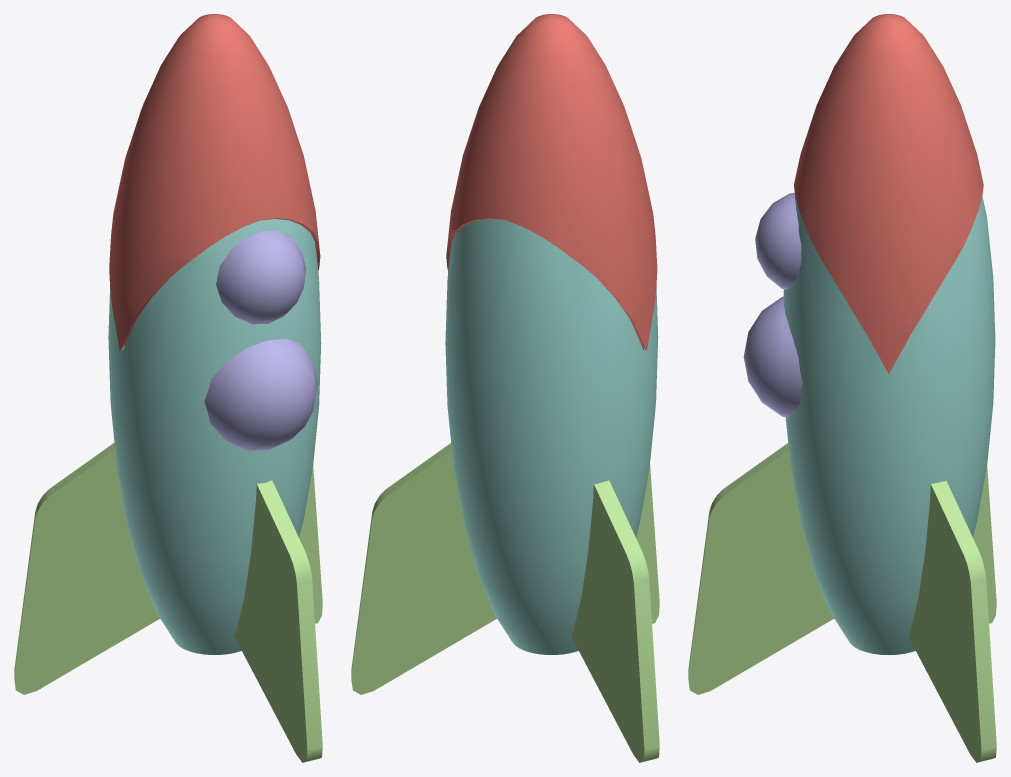
The model's file is Rocket.fbx.
3 views of the same model, side by side, from view 1: azimuth 30°, elevation 25°; view 2: azimuth 150°, elevation 25°; view 3: azimuth 270°, elevation 25° (orthographic).
Visible parts, largest first — view 1: Rocket Body, Fins, HeatShield, Windows; view 2: Rocket Body, Fins, HeatShield; view 3: Rocket Body, HeatShield, Fins, Windows.
Boxes of the visible parts, box(x1,y1,x2,y2) form: Rocket Body: box(108, 219, 321, 654); Fins: box(14, 442, 322, 762); HeatShield: box(109, 14, 320, 350); Windows: box(204, 230, 317, 450); Rocket Body: box(445, 219, 658, 654); Fins: box(351, 443, 659, 762); HeatShield: box(446, 14, 657, 350); Rocket Body: box(783, 196, 995, 654); HeatShield: box(794, 14, 983, 373); Fins: box(688, 443, 996, 762); Windows: box(743, 193, 802, 417).
Bounding box in the file's own units: 401 × 840 × 347.
